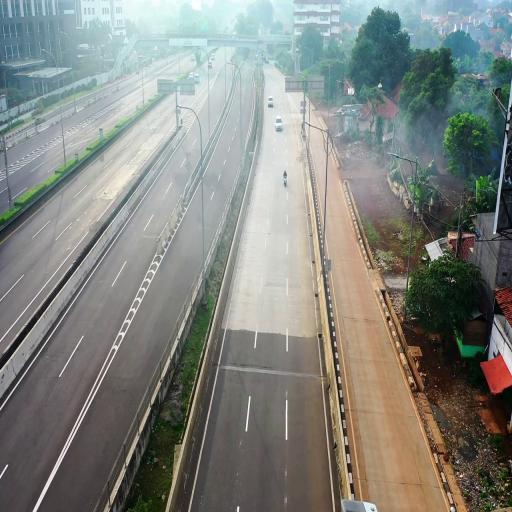vehicle: (274, 115, 284, 131)
